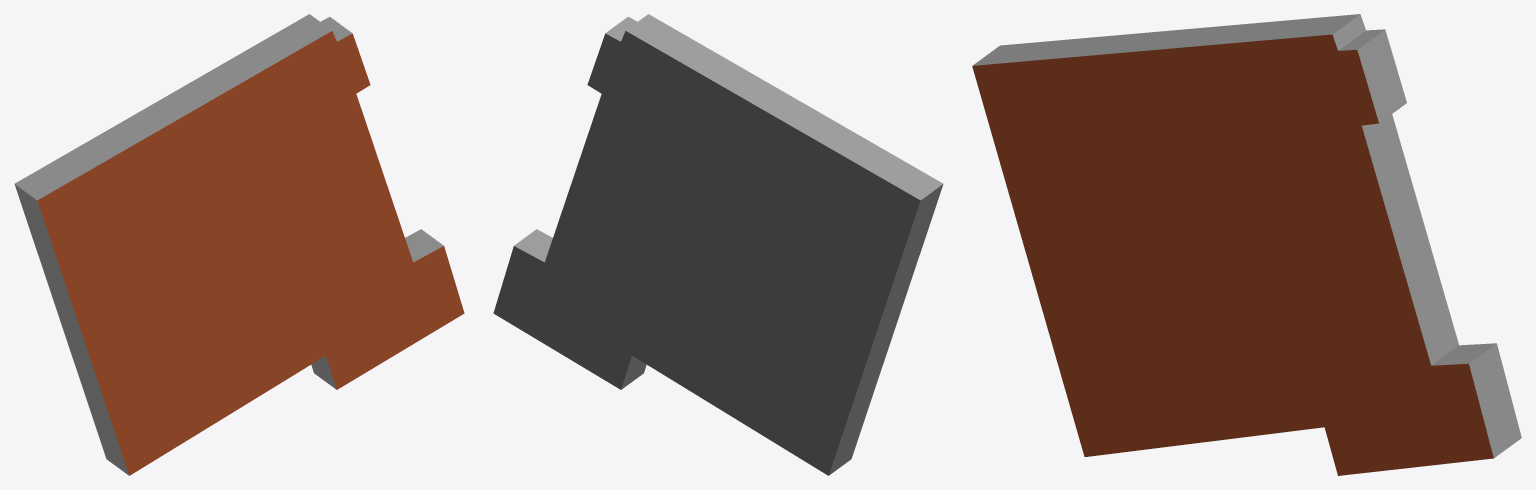
The model's file is construction_0121_assumed_A_Grande_construcao_h6m.obj.
The picture shows the model from 3 angles, left to right: view 1: azimuth 30°, elevation 25°; view 2: azimuth 150°, elevation 25°; view 3: azimuth 330°, elevation 25°; orthographic projection. The views are drawn at different scales.
Parts seen in each view (by area): view 1: construction_0121_assumed_A_Grande_construcao; view 2: construction_0121_assumed_A_Grande_construcao; view 3: construction_0121_assumed_A_Grande_construcao.
Part boxes in pixels (bbox=[...]): construction_0121_assumed_A_Grande_construcao: bbox=[14, 14, 464, 475]; construction_0121_assumed_A_Grande_construcao: bbox=[493, 14, 943, 475]; construction_0121_assumed_A_Grande_construcao: bbox=[972, 14, 1521, 475].
Bounding box in the file's own units: 64.67 × 57.23 × 6.
